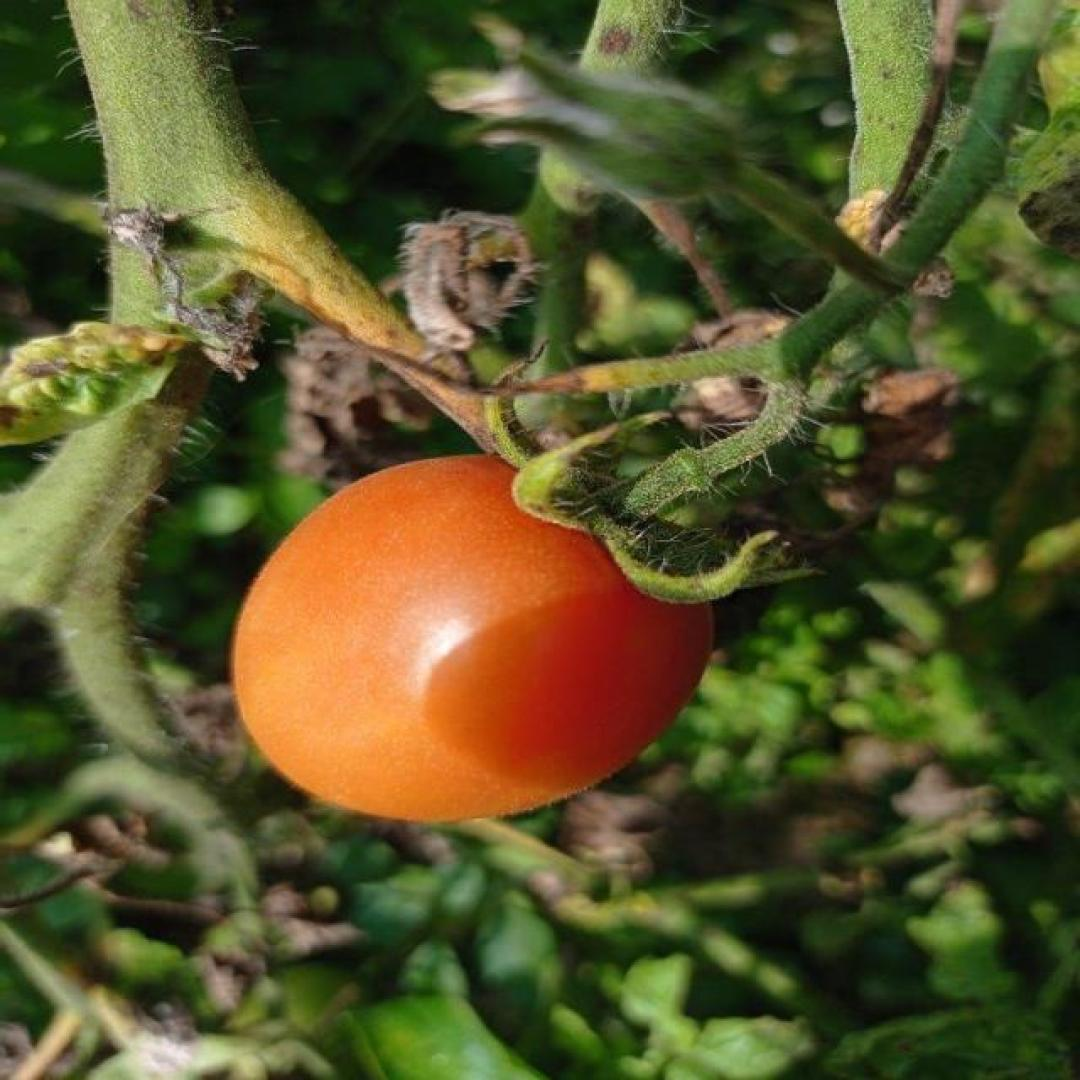setengah_matang: (223, 449, 719, 828)
